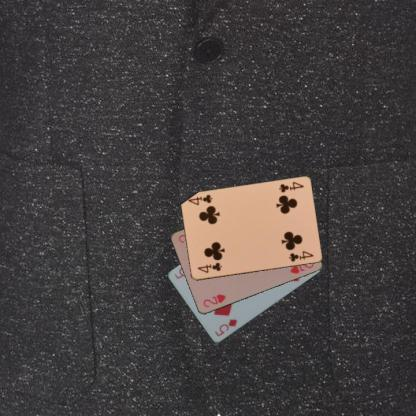2h: (201, 292, 227, 308)
4c: (276, 179, 305, 194), (195, 260, 223, 274)
5d: (212, 317, 238, 338)
